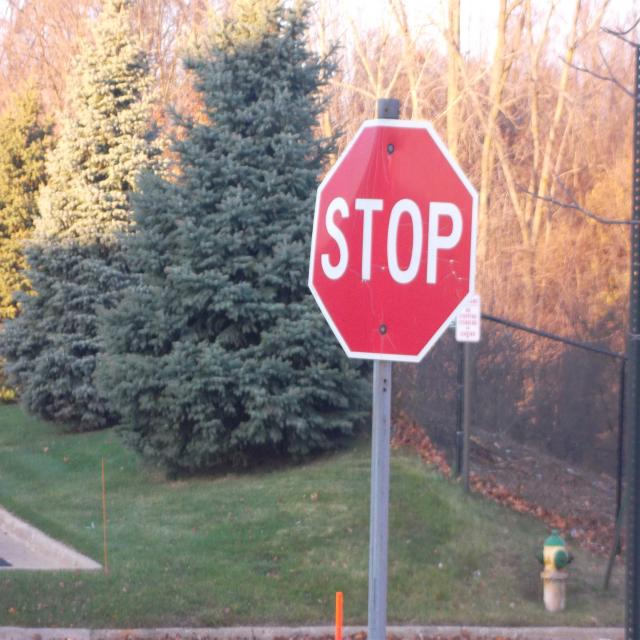stop: (306, 116, 479, 367)
